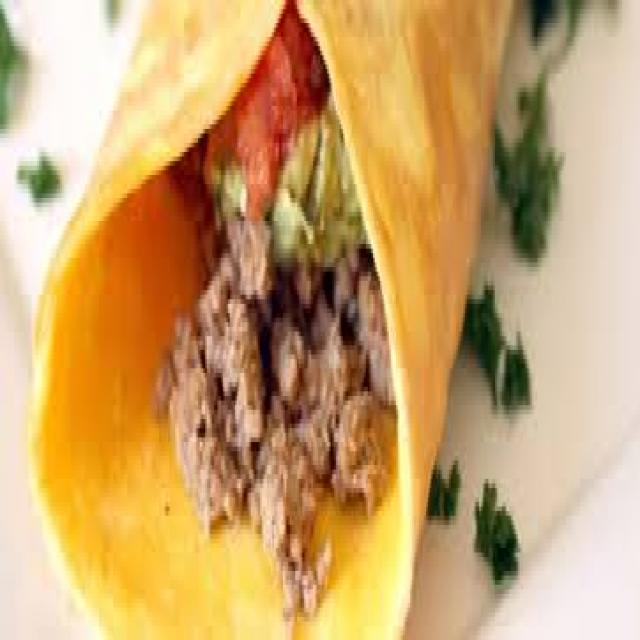organic waste: (30, 0, 509, 635), (154, 216, 392, 622), (182, 106, 366, 272), (216, 0, 329, 207), (156, 304, 244, 529), (246, 428, 330, 617), (276, 111, 357, 290), (492, 60, 562, 258), (198, 253, 262, 456), (232, 28, 297, 202), (356, 244, 392, 414), (332, 391, 382, 511), (278, 0, 332, 106), (198, 110, 249, 217), (223, 203, 272, 313), (472, 465, 518, 580), (267, 290, 309, 410), (302, 304, 361, 387), (465, 285, 502, 396), (530, 0, 614, 46), (0, 0, 27, 129), (428, 452, 465, 520), (18, 147, 58, 198), (332, 240, 362, 308), (288, 249, 324, 304), (506, 332, 530, 414)
